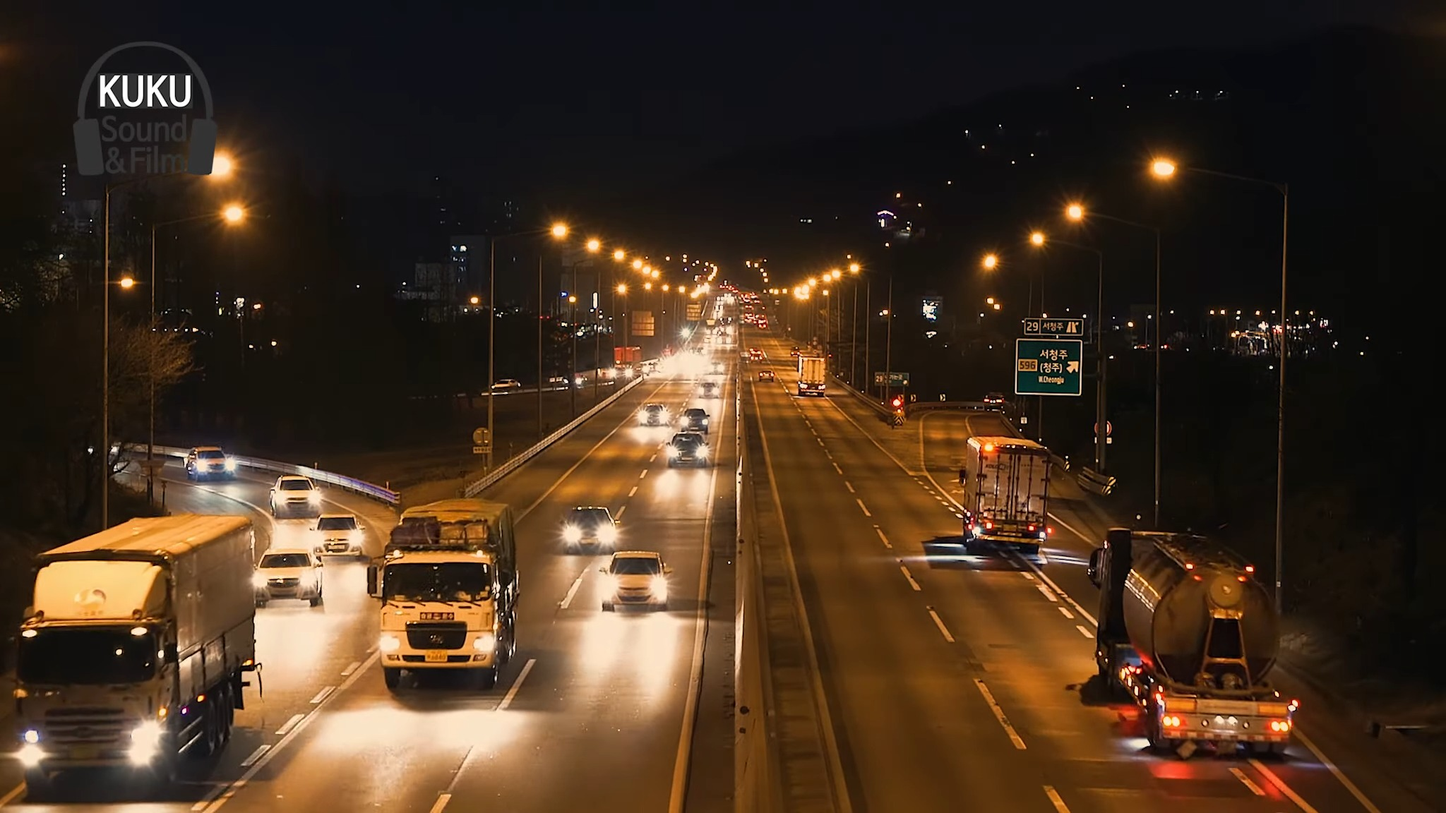car: (601, 547, 675, 614), (558, 503, 616, 556)
truck: (18, 510, 259, 800), (375, 498, 528, 700), (959, 427, 1056, 564)
